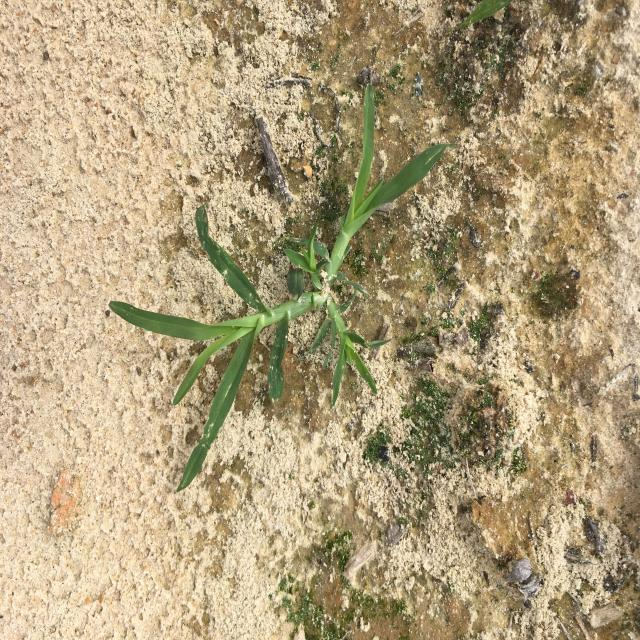Goosegrass: (109, 83, 450, 494)
